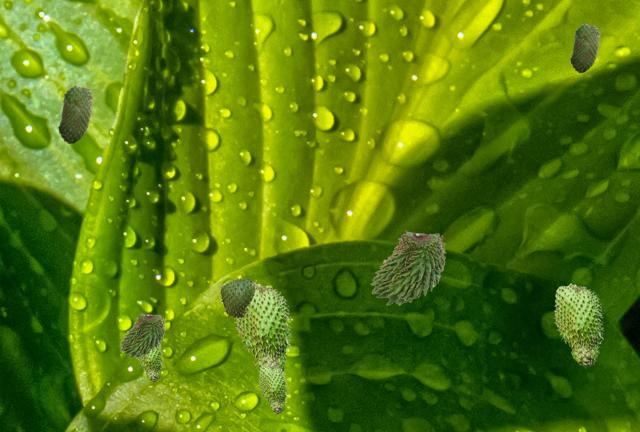guyabano: (370, 229, 445, 304), (234, 282, 291, 370), (553, 283, 603, 367), (119, 312, 164, 357), (58, 85, 92, 143), (220, 277, 255, 318), (570, 23, 599, 72), (258, 364, 287, 413), (136, 345, 162, 381)
